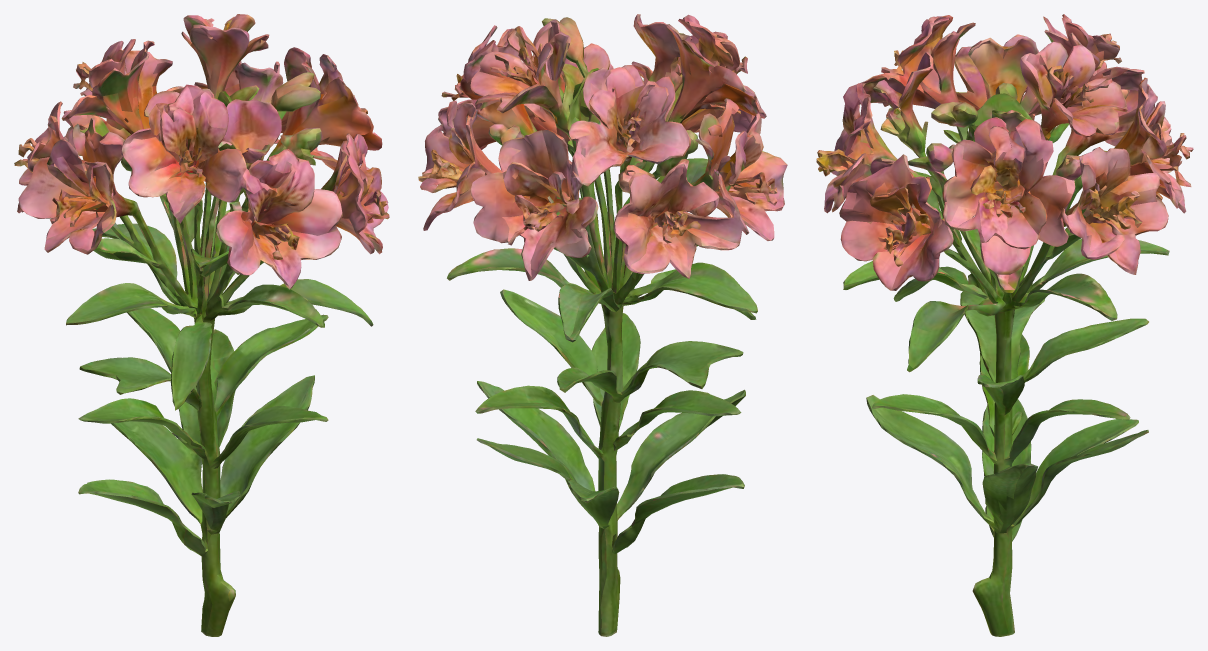
Rendered from lux-alstroemeria.glb.
3 renders of one model, left to right at view 1: azimuth 30°, elevation 25°; view 2: azimuth 150°, elevation 25°; view 3: azimuth 270°, elevation 25°, orthographic. The views are drawn at different scales.
Visible parts, largest first — view 1: geometry_0; view 2: geometry_0; view 3: geometry_0.
Boxes of the visible parts, bbox=[...] form: geometry_0: bbox=[14, 14, 389, 636]; geometry_0: bbox=[418, 14, 787, 636]; geometry_0: bbox=[816, 14, 1193, 636].
Size of the model in its own units: 0.3348 by 0.6 by 0.3431.
Materials: 1 (1 with a texture image).
